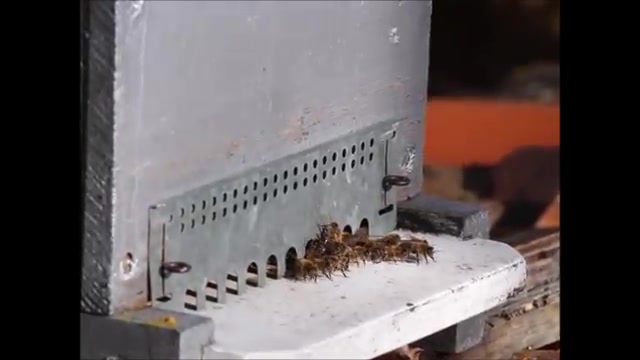bee: (295, 259, 323, 280), (403, 244, 438, 260), (324, 225, 346, 249), (357, 235, 377, 258), (378, 235, 399, 254)
